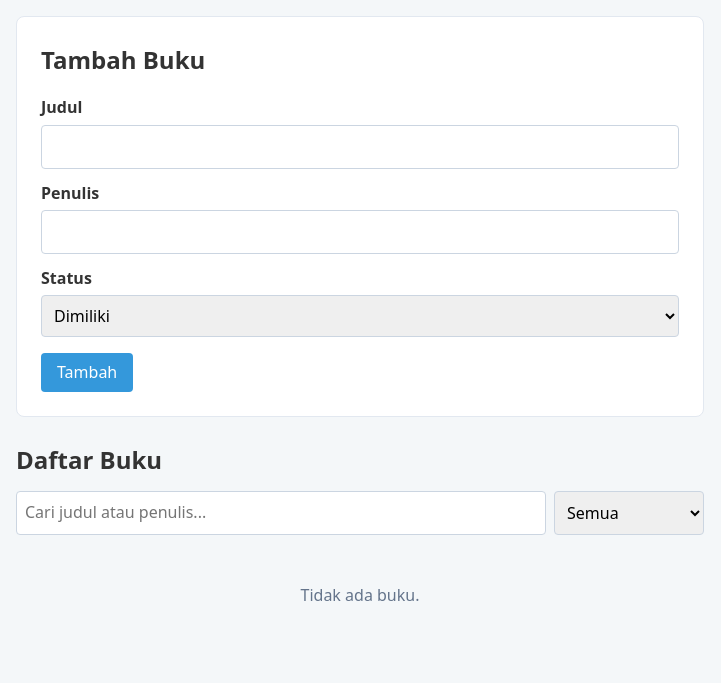
Test: Halaman Home › buku yang ditambahkan muncul di daftar
The width and height of the screenshot is (721, 683).
Type "Negeri 5 Menara" into the field labelled "Judul" at (360, 147), box [41,125,679,169]
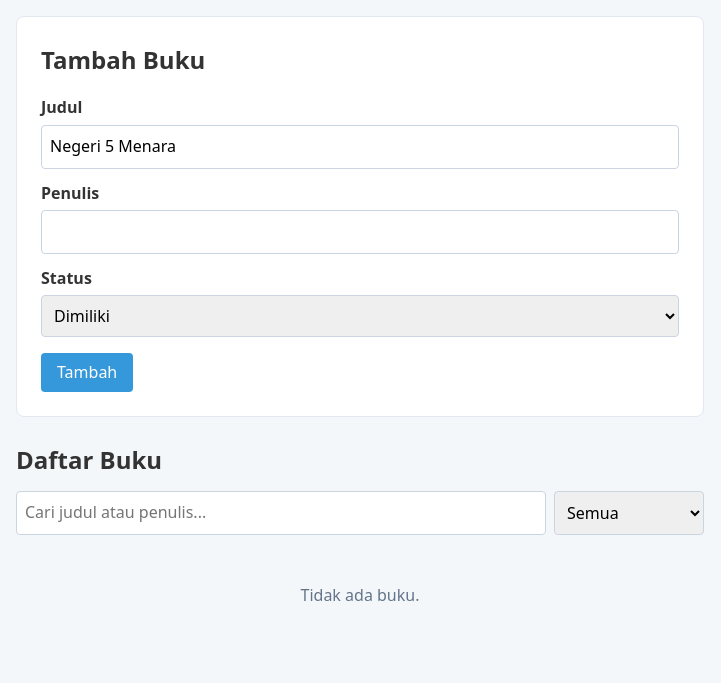
Type "Ahmad Fuadi" into the field labelled "Penulis" at (360, 232), box [41,210,679,254]
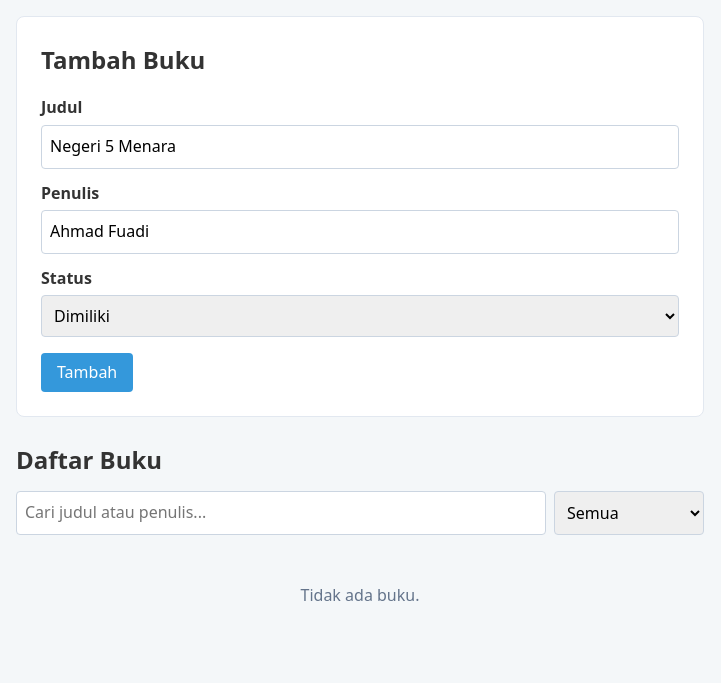
Select "Dimiliki" in the dropdown labelled "Status" at (360, 316), box [41,295,679,337]
Click the button "Tambah" at (87, 373), box [41,353,133,392]
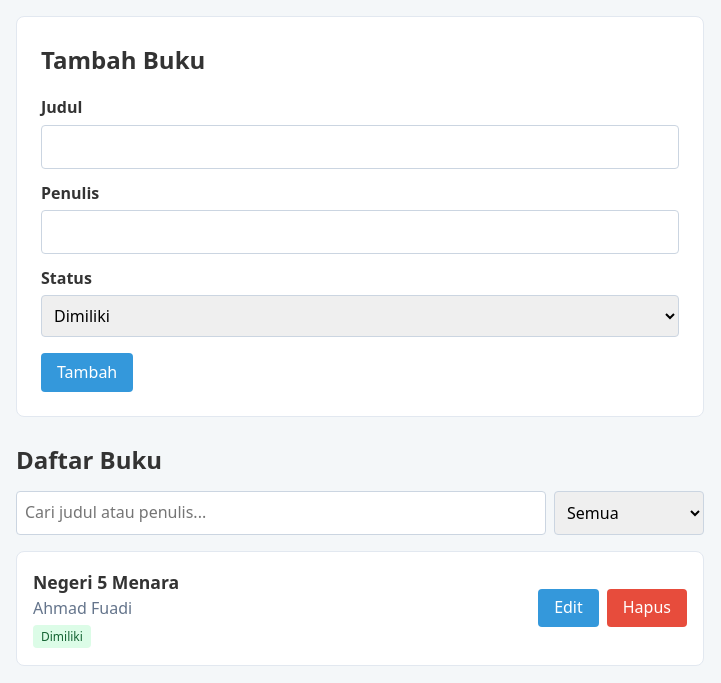
Result: the heading "Negeri 5 Menara" is shown at [33,568,179,596]
